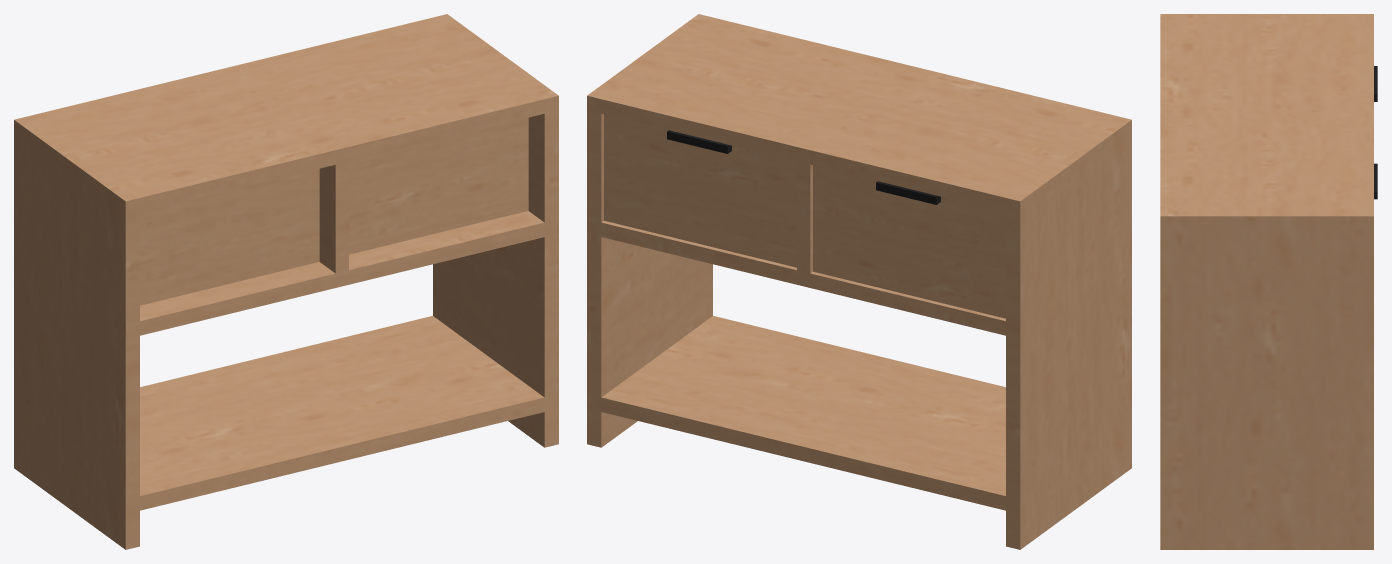
The model's file is BathroomVanity03.fbx.
The picture shows the model from 3 angles, left to right: view 1: azimuth 30°, elevation 25°; view 2: azimuth 150°, elevation 25°; view 3: azimuth 270°, elevation 25°; orthographic projection. The views are drawn at different scales.
Parts seen in each view (by area): view 1: BathroomVanity03, BathroomVanity03Drawer02, BathroomVanity03Drawer01; view 2: BathroomVanity03, BathroomVanity03Drawer02, BathroomVanity03Drawer01; view 3: BathroomVanity03.
Boxes of the visible parts, left/top/right/bottom form: BathroomVanity03: left=14, top=14, right=558, bottom=549; BathroomVanity03Drawer02: left=140, top=168, right=319, bottom=305; BathroomVanity03Drawer01: left=349, top=117, right=528, bottom=254; BathroomVanity03: left=587, top=14, right=1131, bottom=549; BathroomVanity03Drawer02: left=813, top=165, right=1005, bottom=318; BathroomVanity03Drawer01: left=604, top=114, right=796, bottom=267; BathroomVanity03: left=1160, top=14, right=1373, bottom=549.
Bounding box in the file's own units: 104 × 79.89 × 47.15.
